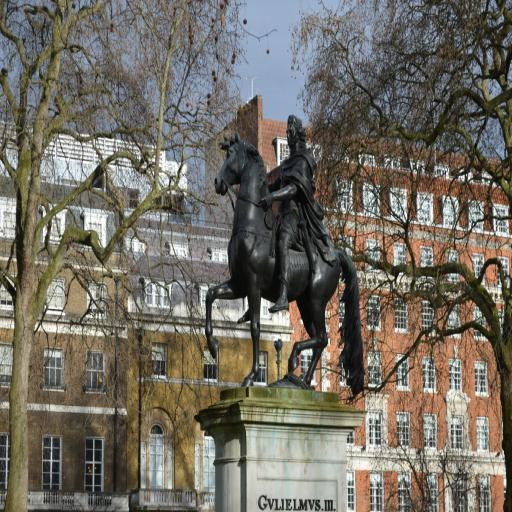horse: (204, 130, 364, 396)
